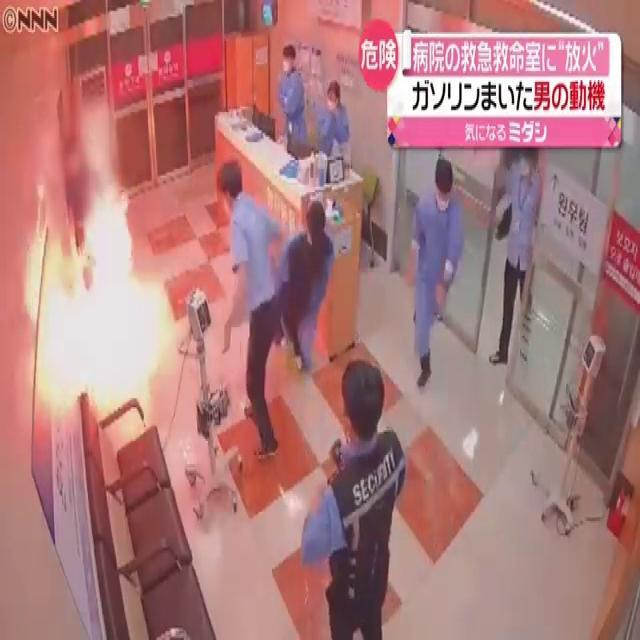Fire: (16, 162, 180, 428)
